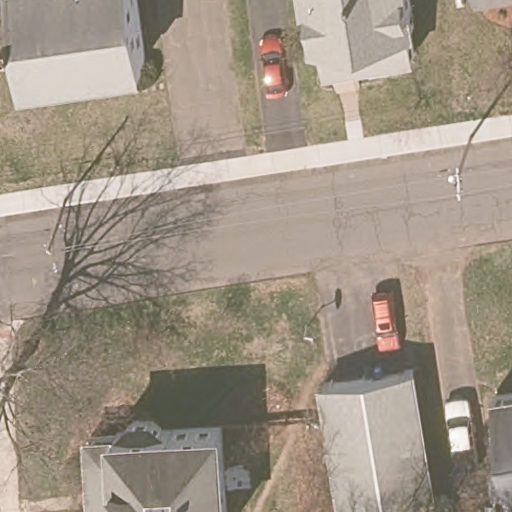DT: (446, 136, 476, 201), (43, 201, 68, 275)
